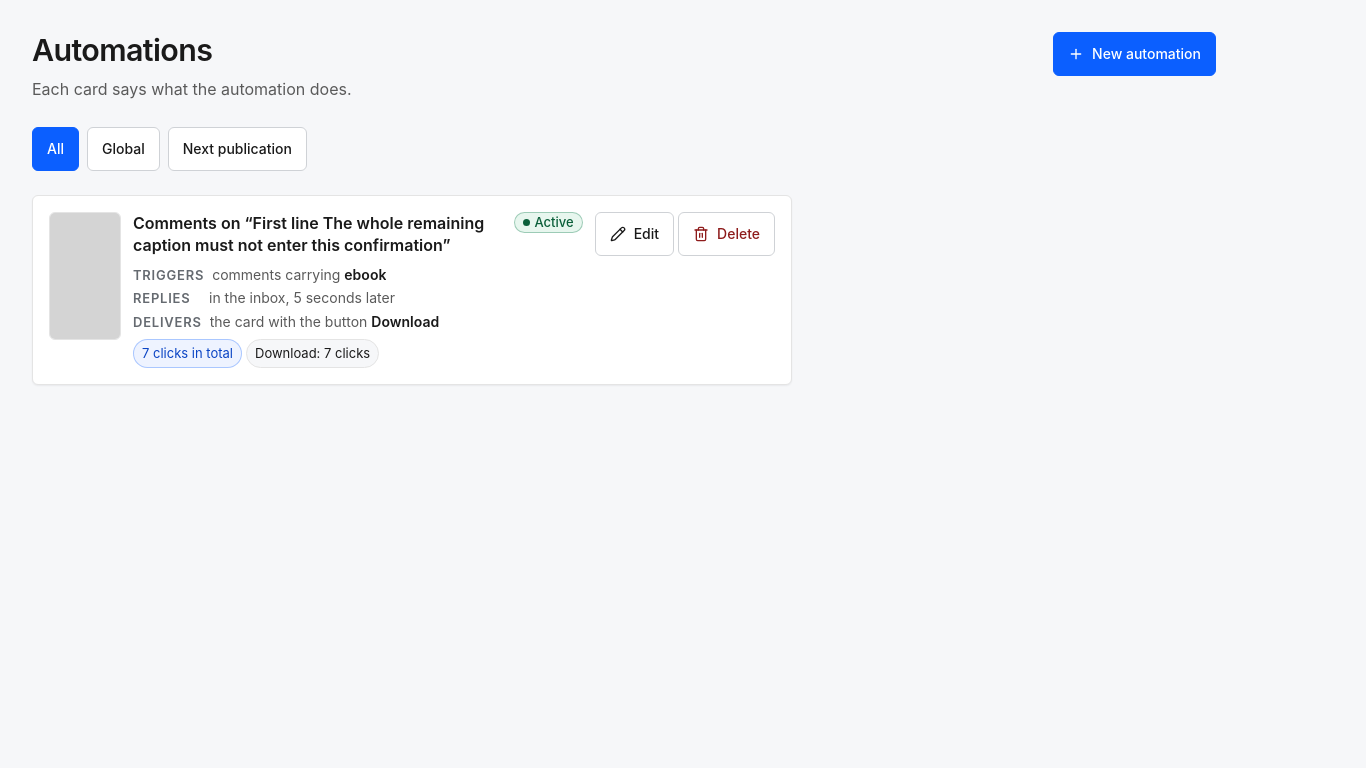
Scenario: REQ-381, REQ-382: scope cards are recognisable and scannable › keeps only the first caption line in the deletion consequence
Click the button "Delete".
click(727, 234)  # box [678,212,775,256]
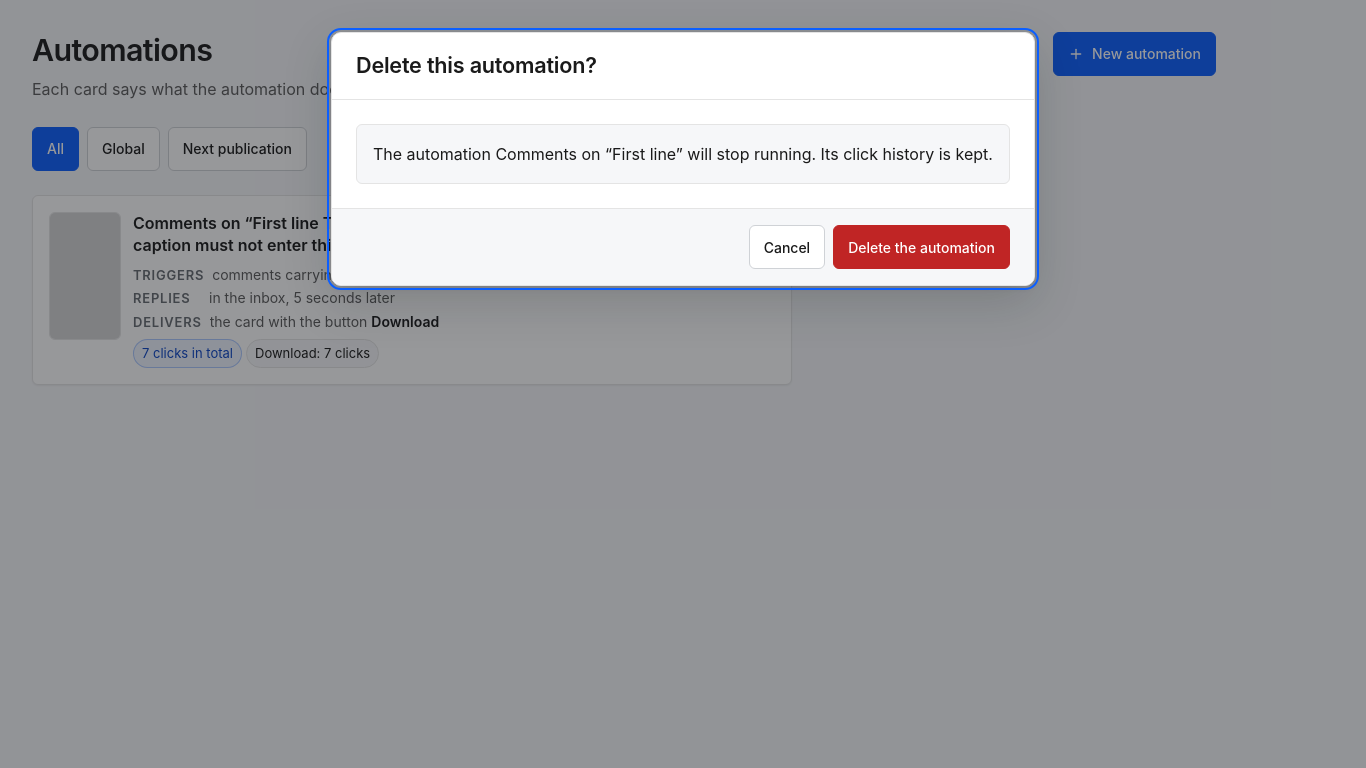
Expected: the text with class "mc-consequence__caption" does not show "remaining caption", [495,141,683,167]
Expected: the text with class "mc-consequence__caption" reads "Comments on “First line”", [495,144,683,164]
